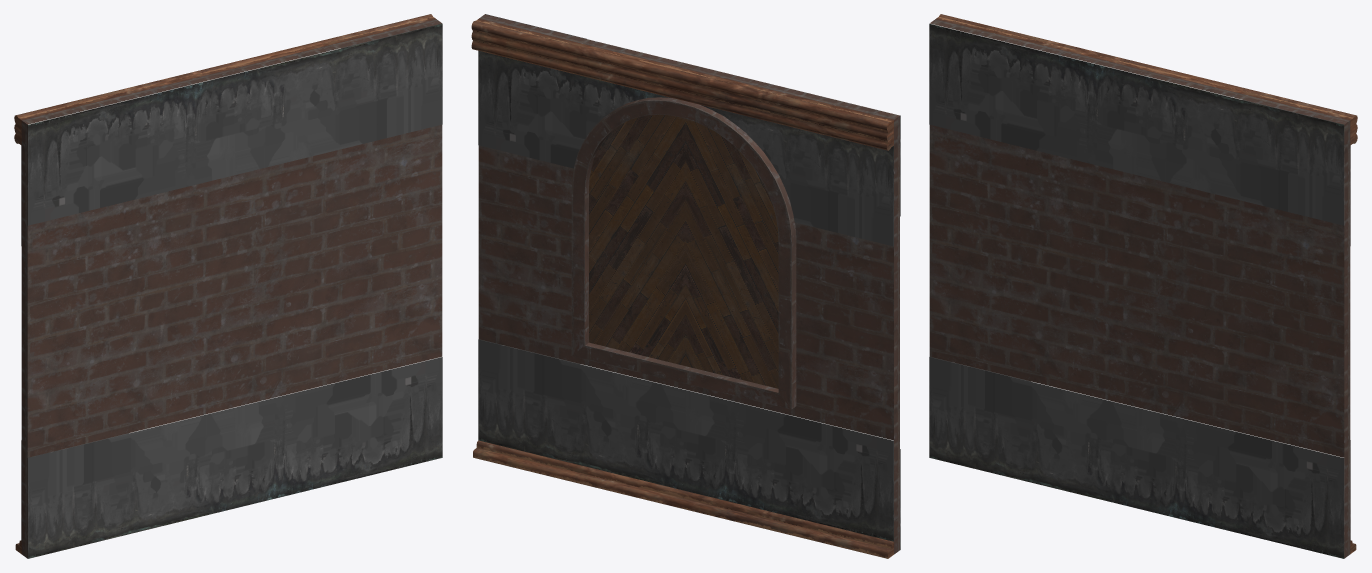
File: Kit_BricksOldWoodEmptyWindow.fbx
The picture shows the model from 3 angles, left to right: view 1: azimuth 30°, elevation 25°; view 2: azimuth 150°, elevation 25°; view 3: azimuth 330°, elevation 25°; orthographic projection.
Visible parts, largest first — view 1: Kit_BricksOldWoodEmptyWindow; view 2: Kit_BricksOldWoodEmptyWindow; view 3: Kit_BricksOldWoodEmptyWindow.
Boxes of the visible parts, x1,y1,x2,y2 form: Kit_BricksOldWoodEmptyWindow: [14, 14, 442, 558]; Kit_BricksOldWoodEmptyWindow: [471, 14, 900, 558]; Kit_BricksOldWoodEmptyWindow: [929, 14, 1357, 558].
Bounding box in the file's own units: 157 × 158 × 8.99.
